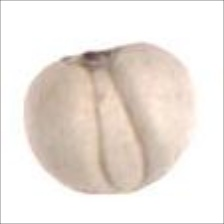L5: (86, 60, 152, 190), (98, 163, 172, 198), (56, 45, 132, 71)
L6: (21, 40, 202, 198)
